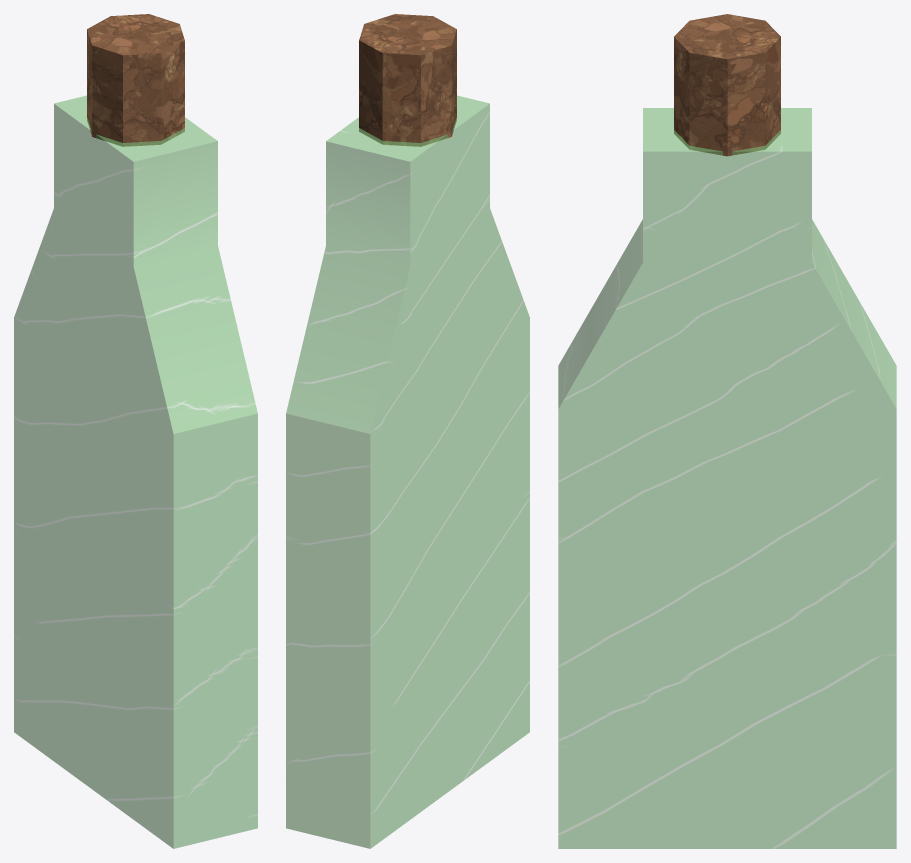
File: medicine3.glb
The picture shows the model from 3 angles, left to right: view 1: azimuth 30°, elevation 25°; view 2: azimuth 150°, elevation 25°; view 3: azimuth 270°, elevation 25°; orthographic projection. The views are drawn at different scales.
Parts seen in each view (by area): view 1: pCube1, pCylinder1; view 2: pCube1, pCylinder1; view 3: pCube1, pCylinder1.
Part boxes in pixels (box(x1,y1,x2,y2)): pCube1: box(14, 95, 257, 848); pCylinder1: box(87, 14, 184, 146); pCube1: box(286, 95, 529, 848); pCylinder1: box(359, 14, 456, 146); pCube1: box(558, 108, 896, 848); pCylinder1: box(674, 14, 780, 156).
Bounding box in the file's own units: 0.02 × 0.1627 × 0.0631.
1 material, 1 textured.
